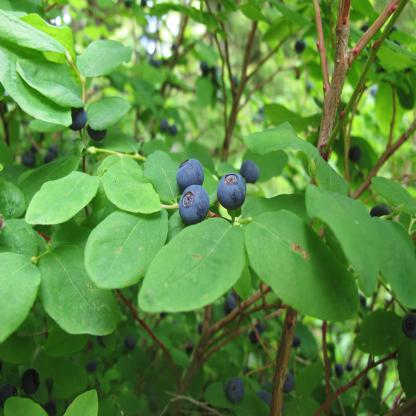Blueberry leaf: (243, 209, 367, 334), (141, 219, 247, 323), (310, 173, 381, 296), (38, 240, 119, 347), (82, 203, 170, 295), (20, 171, 104, 231), (0, 250, 43, 346), (17, 54, 84, 112), (100, 159, 165, 216), (74, 37, 143, 80), (86, 94, 137, 136)
